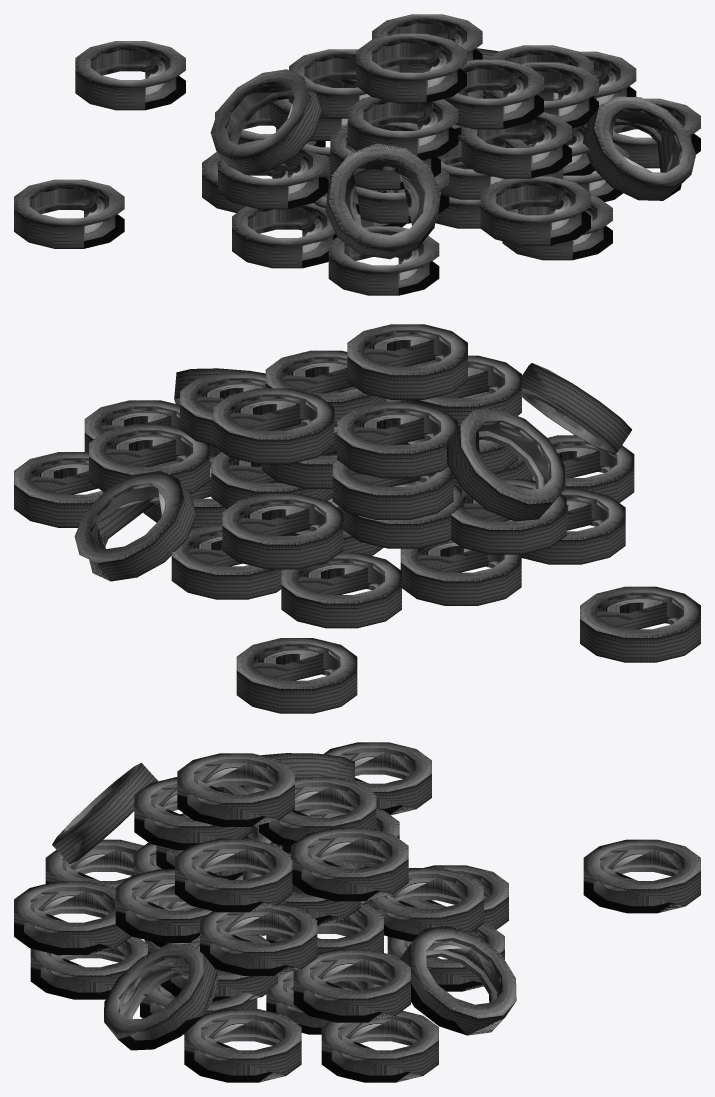
File: trashModel5.fbx
3 views of the same model, one above another, from view 1: azimuth 30°, elevation 25°; view 2: azimuth 150°, elevation 25°; view 3: azimuth 270°, elevation 25° (orthographic). The views are drawn at different scales.
Visible parts, largest first — view 1: polySurface1; view 2: polySurface1; view 3: polySurface1.
Part boxes in pixels (box(x1,y1,x2,y2)): polySurface1: box(14, 14, 700, 295); polySurface1: box(14, 324, 700, 713); polySurface1: box(14, 742, 700, 1082).
Bounding box in the file's own units: 16.02 × 3.98 × 14.7.
Materials: 78 (78 with a texture image).
